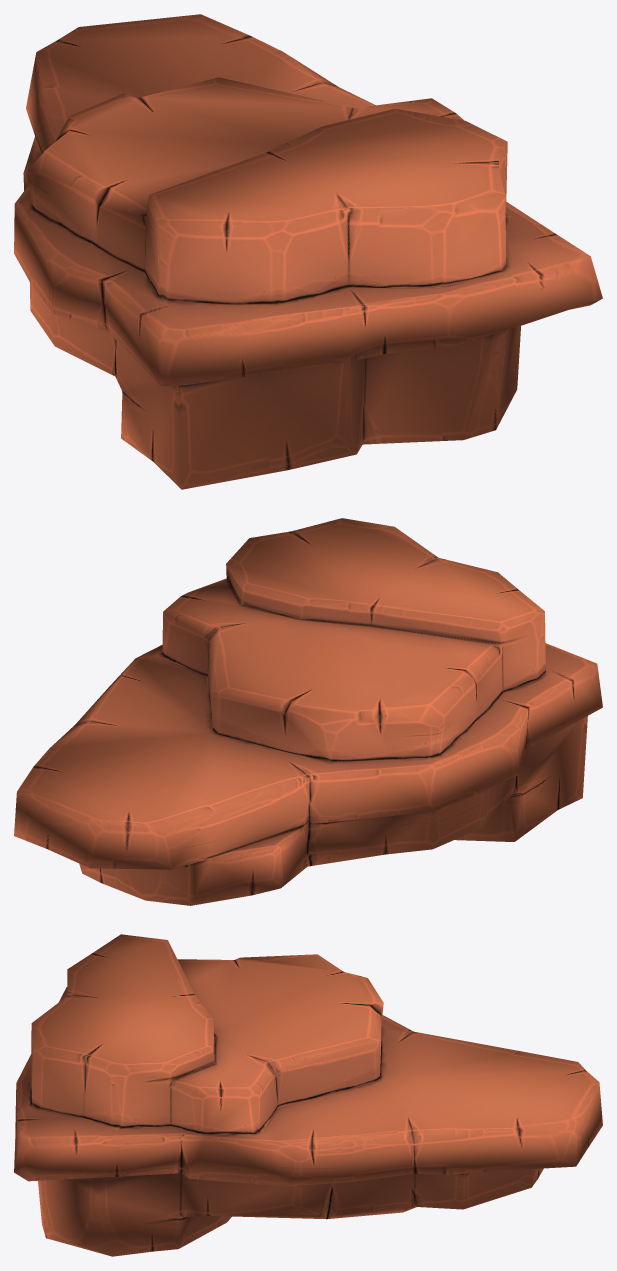
The model's file is rock_4.fbx.
3 renders of one model, top to bottom at view 1: azimuth 30°, elevation 25°; view 2: azimuth 150°, elevation 25°; view 3: azimuth 270°, elevation 25°, orthographic. The views are drawn at different scales.
Visible parts, largest first — view 1: Low_4; view 2: Low_4; view 3: Low_4.
Part boxes in pixels (x1,y1,x2,y2): Low_4: (14, 14, 602, 489); Low_4: (14, 518, 602, 905); Low_4: (14, 934, 602, 1256).
Bounding box in the file's own units: 306 × 171 × 464.
1 material, 1 textured.
